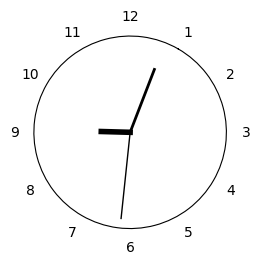12: (122, 9, 139, 23)
circle: (34, 36, 227, 228)
hours: (98, 129, 133, 135)
minutes: (130, 68, 156, 130)
seconds: (120, 136, 131, 219)
